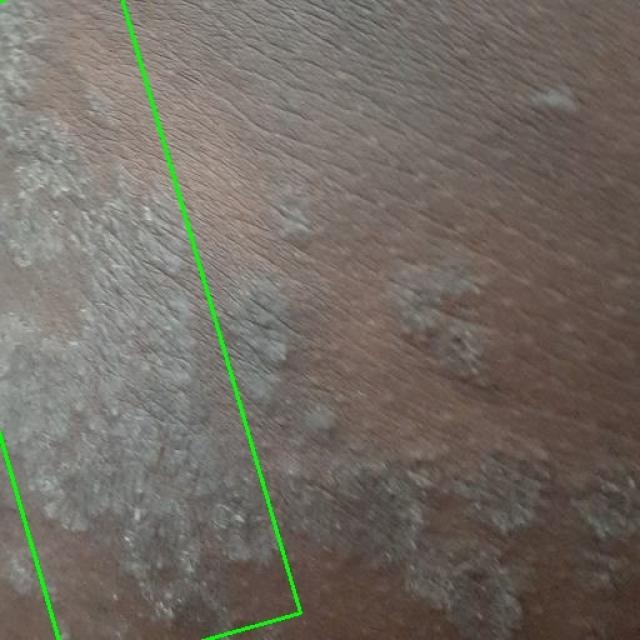Tinea Corporis: (0, 0, 300, 640)
